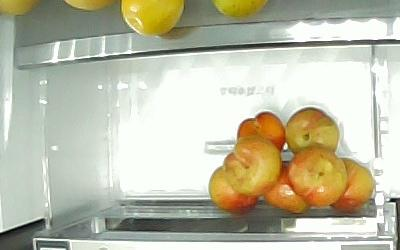prune: (286, 145, 347, 207), (222, 134, 281, 197), (262, 159, 312, 214), (284, 106, 340, 155), (329, 156, 374, 213), (207, 162, 258, 212), (236, 110, 285, 152)
